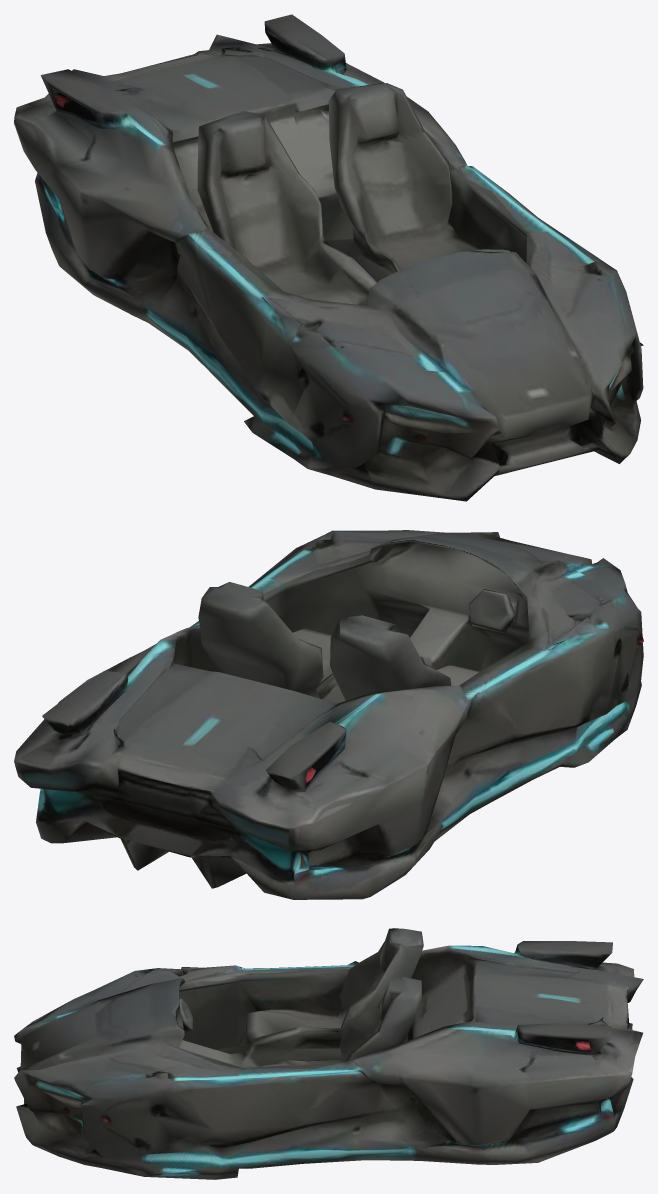
3 views of the same model, one above another, from view 1: azimuth 30°, elevation 25°; view 2: azimuth 150°, elevation 25°; view 3: azimuth 270°, elevation 25° (orthographic). The views are drawn at different scales.
Visible parts, largest first — view 1: tripo_node_6582a6da-e706-419f-9285-bc4d414077e0; view 2: tripo_node_6582a6da-e706-419f-9285-bc4d414077e0; view 3: tripo_node_6582a6da-e706-419f-9285-bc4d414077e0.
Boxes of the visible parts, x1,y1,x2,y2 form: tripo_node_6582a6da-e706-419f-9285-bc4d414077e0: (14, 14, 643, 501); tripo_node_6582a6da-e706-419f-9285-bc4d414077e0: (14, 530, 643, 899); tripo_node_6582a6da-e706-419f-9285-bc4d414077e0: (14, 928, 643, 1179).
Bounding box in the file's own units: 2.05 × 1.17 × 4.2.
Materials: 1 (1 with a texture image).
